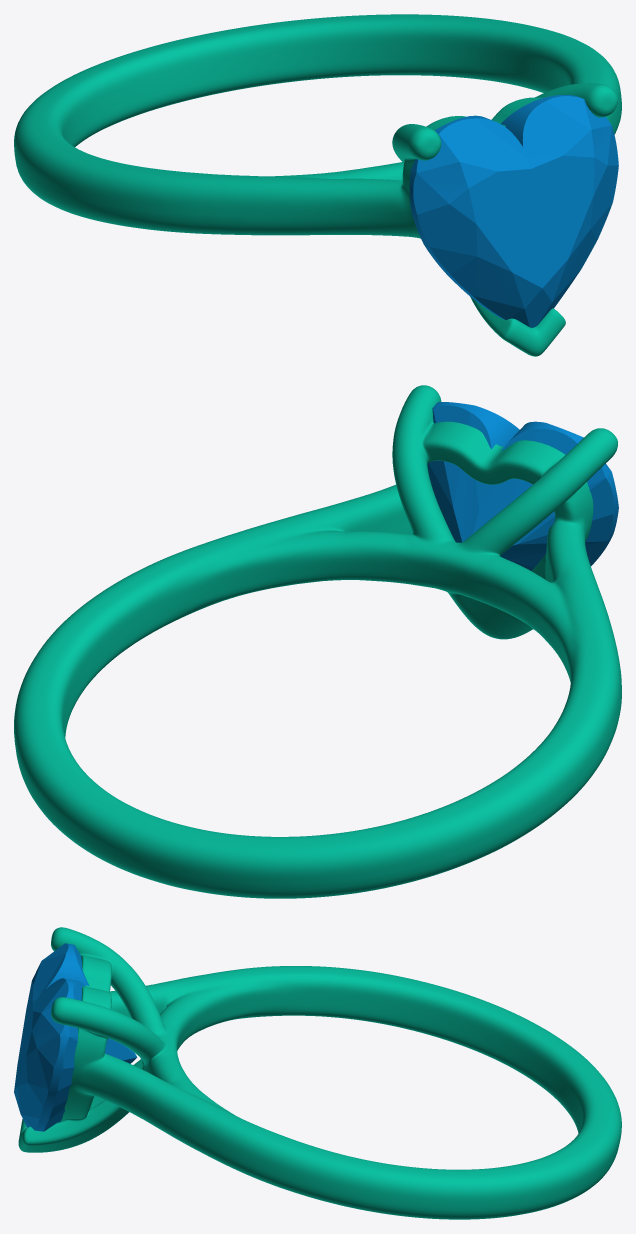
The picture shows the model from 3 angles, top to bottom: view 1: azimuth 30°, elevation 25°; view 2: azimuth 150°, elevation 25°; view 3: azimuth 270°, elevation 25°; orthographic projection. The views are drawn at different scales.
Parts seen in each view (by area): view 1: FOR RENDER.3dm, Diamond_Heart; view 2: FOR RENDER.3dm, Diamond_Heart; view 3: FOR RENDER.3dm, Diamond_Heart.
Part boxes in pixels (x1,y1,x2,y2): FOR RENDER.3dm: (14,14,621,356); Diamond_Heart: (409,95,618,327); FOR RENDER.3dm: (14,385,621,898); Diamond_Heart: (427,402,618,570); FOR RENDER.3dm: (18,927,621,1219); Diamond_Heart: (14,943,137,1131).
Size of the model in its own units: 2.44 by 1.03 by 3.
